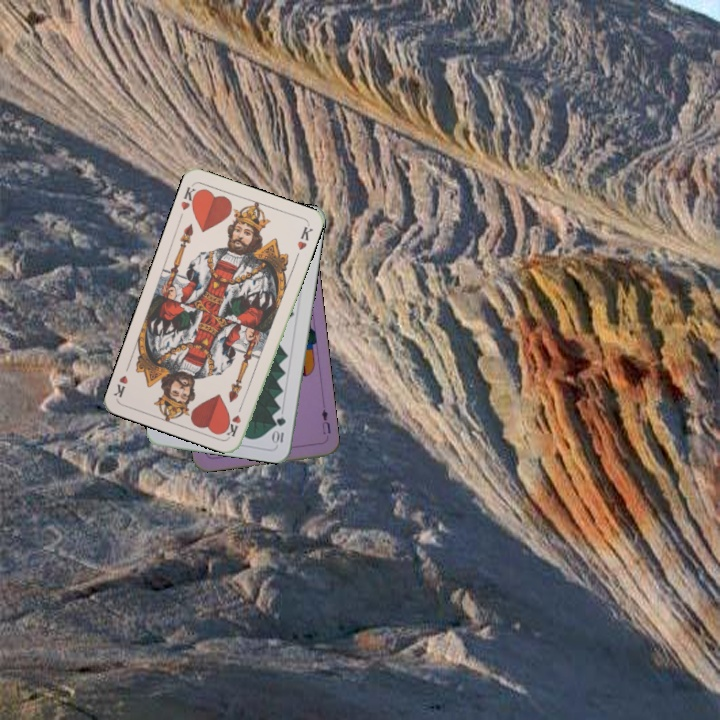EU: (318, 401, 333, 437)
G10: (270, 413, 288, 447)
HK: (223, 399, 245, 439), (177, 182, 202, 213)
